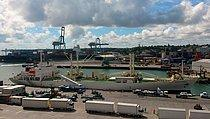Ship: (9, 52, 199, 98)
